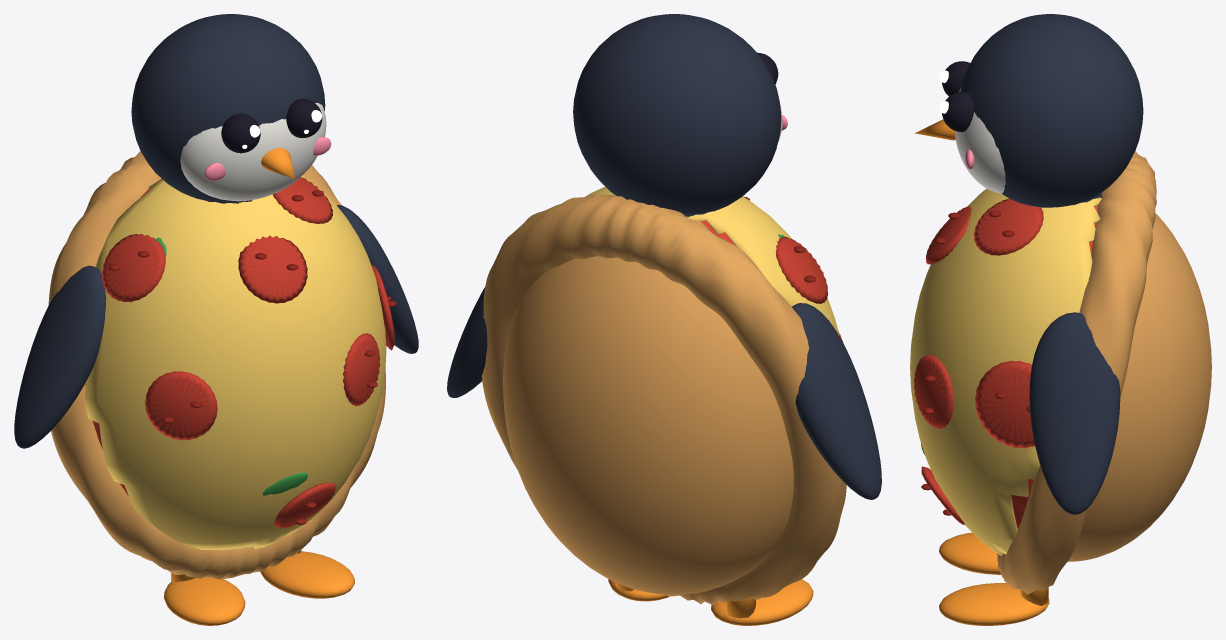
The model's file is pilot_pingvin_pizza.glb.
3 renders of one model, left to right at view 1: azimuth 30°, elevation 25°; view 2: azimuth 150°, elevation 25°; view 3: azimuth 270°, elevation 25°, orthographic. The views are drawn at different scales.
Visible parts, largest first — view 1: kropp, hode, vinge_v, bein_vf, bein_hf, vinge_h; view 2: kropp, hode, vinge_v, bein_vf, vinge_h; view 3: kropp, hode, vinge_h, bein_hf, bein_vf.
Boxes of the visible parts, <box> form: kropp: <box>48,151,396,579</box>; hode: <box>131,14,331,203</box>; vinge_v: <box>14,265,105,448</box>; bein_vf: <box>164,573,245,625</box>; bein_hf: <box>260,550,354,598</box>; vinge_h: <box>337,205,418,353</box>; kropp: <box>481,186,846,605</box>; hode: <box>573,14,787,216</box>; vinge_v: <box>792,303,881,499</box>; bein_vf: <box>711,579,813,625</box>; vinge_h: <box>447,287,487,397</box>; kropp: <box>910,151,1211,594</box>; hode: <box>915,14,1143,207</box>; vinge_h: <box>1029,312,1120,514</box>; bein_hf: <box>939,583,1049,625</box>; bein_vf: <box>939,532,1000,574</box>.
Bounding box in the file's own units: 1.16 × 1.56 × 0.749.
